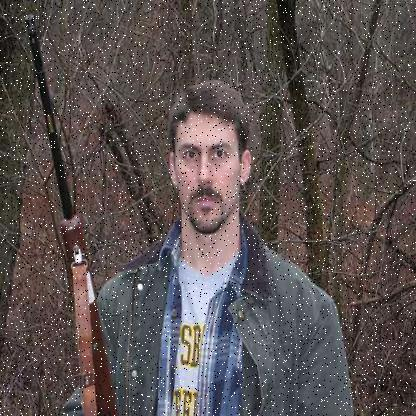rifle: (18, 13, 127, 415)
